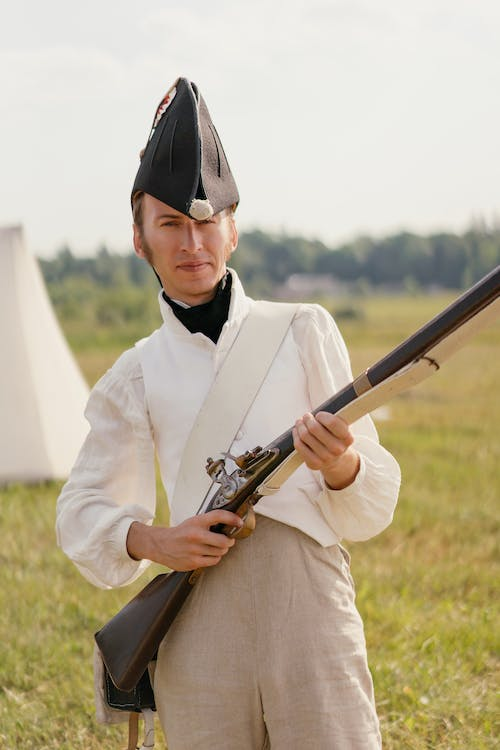gun: (89, 263, 500, 697)
